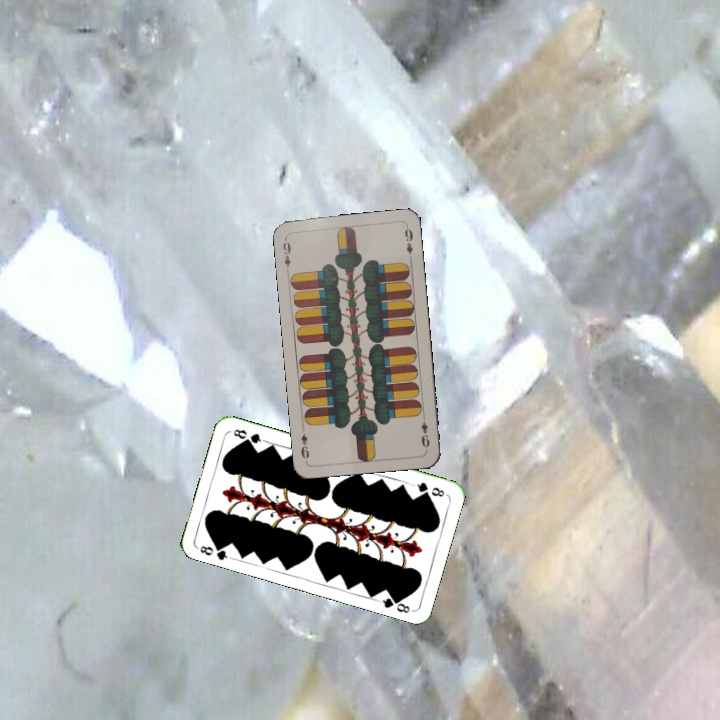E9: (417, 411, 432, 452), (279, 234, 294, 275)
G8: (194, 540, 234, 563), (409, 478, 447, 499)
